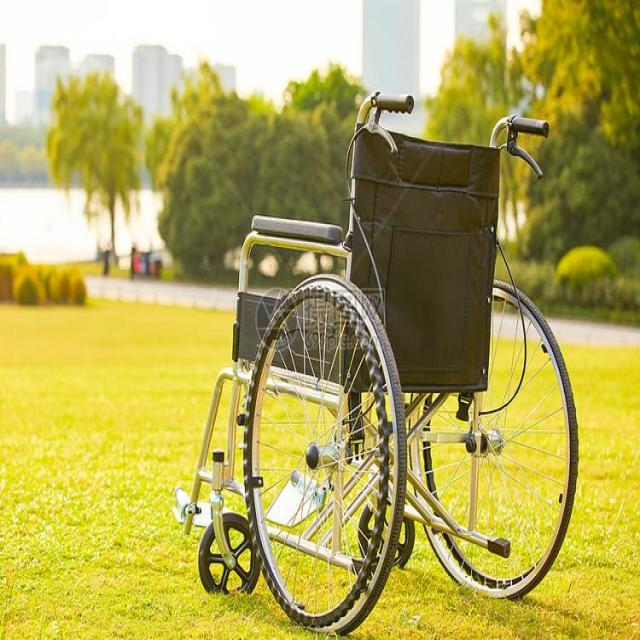wheelchairs: (163, 84, 585, 639)
